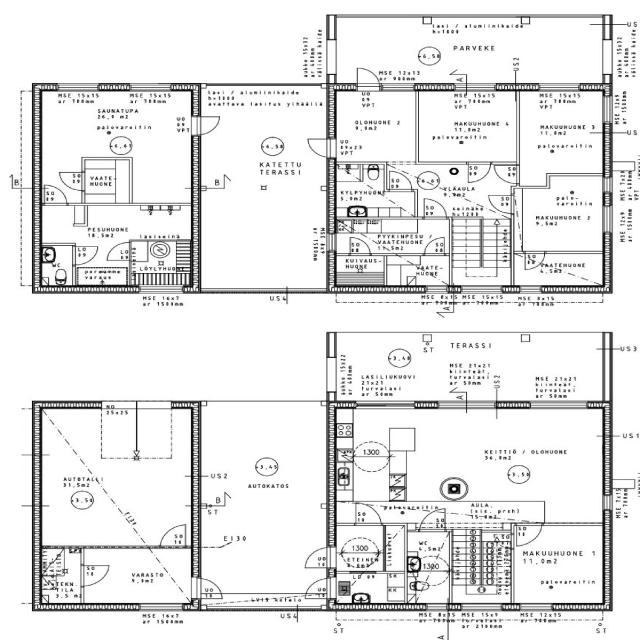door: (47, 173, 83, 204), (80, 561, 111, 588), (300, 545, 334, 569), (159, 523, 190, 548), (304, 136, 336, 159), (354, 502, 384, 526), (514, 523, 544, 547), (193, 114, 224, 136), (485, 192, 514, 215), (419, 197, 449, 219), (419, 509, 447, 532), (354, 65, 380, 89), (58, 170, 86, 192), (386, 169, 414, 191), (466, 161, 493, 183), (493, 163, 520, 185), (196, 576, 224, 597), (302, 576, 331, 596), (42, 183, 68, 205), (73, 244, 99, 265), (524, 250, 548, 272), (106, 241, 132, 261), (422, 236, 448, 255), (424, 286, 450, 304)
window: (356, 398, 418, 411), (528, 399, 592, 411), (134, 602, 184, 614), (600, 38, 614, 76), (457, 284, 505, 295), (127, 82, 174, 93), (536, 82, 583, 93), (135, 284, 186, 294), (55, 82, 101, 92), (601, 204, 615, 236), (601, 94, 615, 126), (435, 398, 469, 411), (457, 604, 505, 613), (378, 82, 419, 92), (516, 603, 554, 613), (186, 574, 200, 601), (464, 82, 498, 93), (464, 400, 498, 410), (325, 230, 338, 252), (601, 176, 615, 194), (516, 285, 544, 294), (601, 493, 614, 512), (423, 602, 447, 612)
zone: (197, 402, 330, 597), (414, 408, 606, 518), (40, 92, 198, 158), (512, 522, 606, 608), (416, 88, 522, 164), (517, 90, 606, 177), (514, 176, 607, 251), (330, 89, 419, 165), (83, 546, 195, 606), (68, 203, 192, 241), (336, 218, 452, 256), (332, 172, 416, 217), (450, 565, 513, 608), (331, 572, 409, 606), (333, 524, 385, 572), (40, 548, 84, 604), (129, 240, 193, 276), (387, 254, 451, 288), (331, 254, 386, 290), (75, 250, 130, 286), (406, 529, 451, 570), (41, 244, 76, 287), (408, 570, 451, 604), (105, 240, 133, 262)
